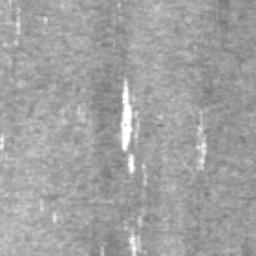White rust: (119, 77, 139, 152), (195, 110, 208, 171), (128, 232, 141, 256), (127, 153, 136, 174), (142, 163, 146, 187), (137, 215, 144, 228)
